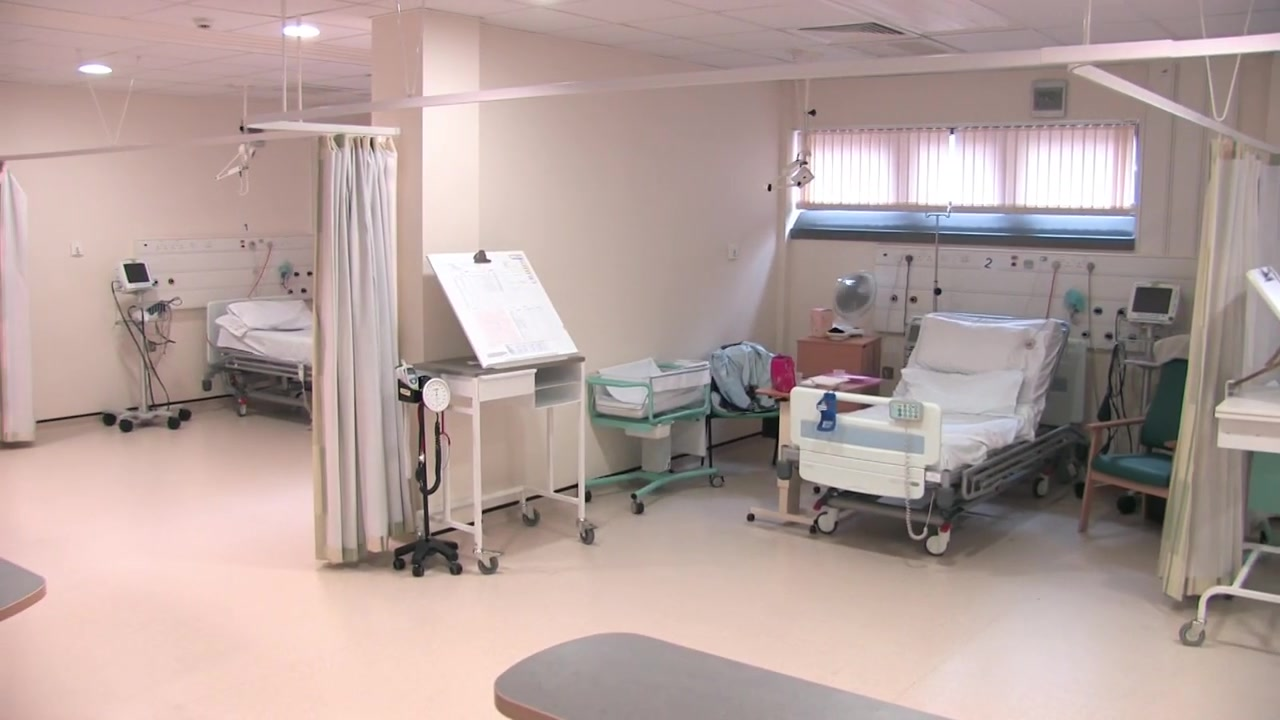bedside_monitor: (1125, 281, 1180, 324), (119, 261, 157, 293)
bedside_table: (795, 333, 884, 377)
chair: (1076, 337, 1188, 544), (706, 340, 786, 470)
curtain: (1157, 140, 1268, 602), (315, 132, 404, 564), (1, 164, 34, 442)
foot_board: (790, 385, 941, 513)
hospital_bed: (787, 310, 1080, 553), (203, 295, 313, 425)
iv_pole: (922, 201, 952, 311)
overbed_table: (489, 631, 955, 720), (1, 558, 48, 624)
utility_cart: (408, 357, 591, 574), (1185, 381, 1280, 647)
